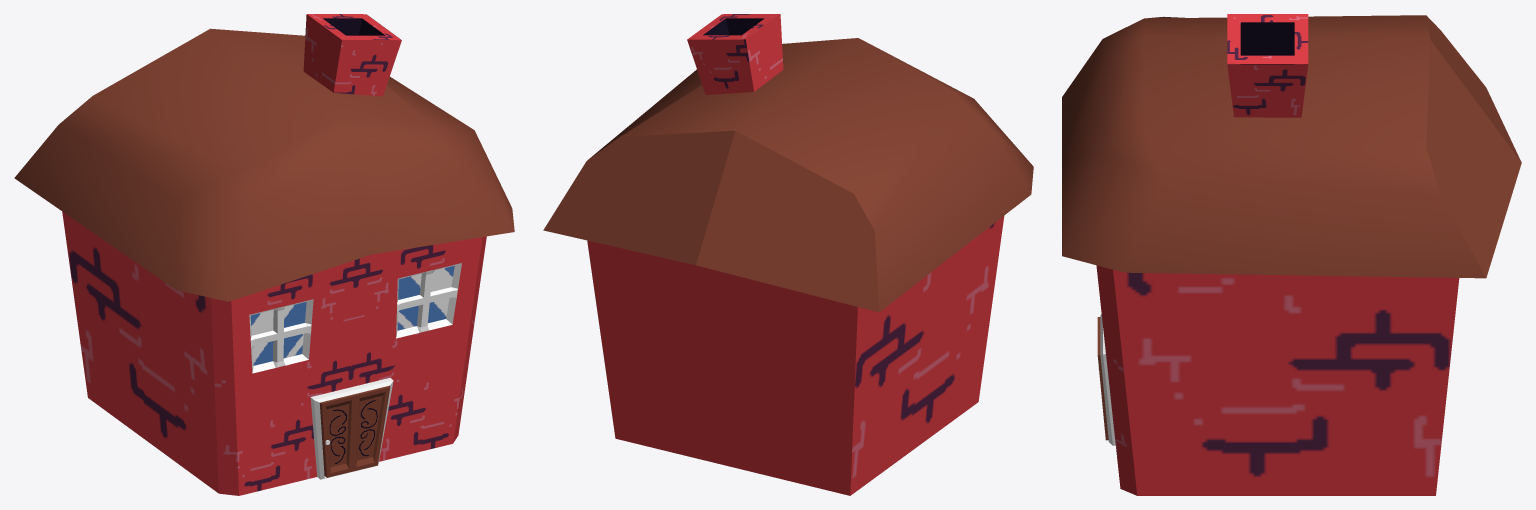
File: House.fbx
3 views of the same model, side by side, from view 1: azimuth 30°, elevation 25°; view 2: azimuth 150°, elevation 25°; view 3: azimuth 270°, elevation 25° (orthographic). The views are drawn at different scales.
Visible parts, largest first — view 1: Cube, House, Cube.001, Door; view 2: Cube, House, Cube.001; view 3: Cube, House, Cube.001.
Part boxes in pixels (x1=…): Cube: x1=14, y1=28, x2=514, y2=301; House: x1=62, y1=211, x2=486, y2=495; Cube.001: x1=303, y1=14, x2=401, y2=96; Door: x1=319, y1=386, x2=390, y2=477; Cube: x1=543, y1=38, x2=1033, y2=312; House: x1=587, y1=216, x2=1004, y2=495; Cube.001: x1=687, y1=14, x2=783, y2=94; Cube: x1=1062, y1=15, x2=1521, y2=278; House: x1=1096, y1=265, x2=1459, y2=495; Cube.001: x1=1227, y1=14, x2=1308, y2=117.
Bounding box in the file's own units: 1351 × 1451 × 1375.
